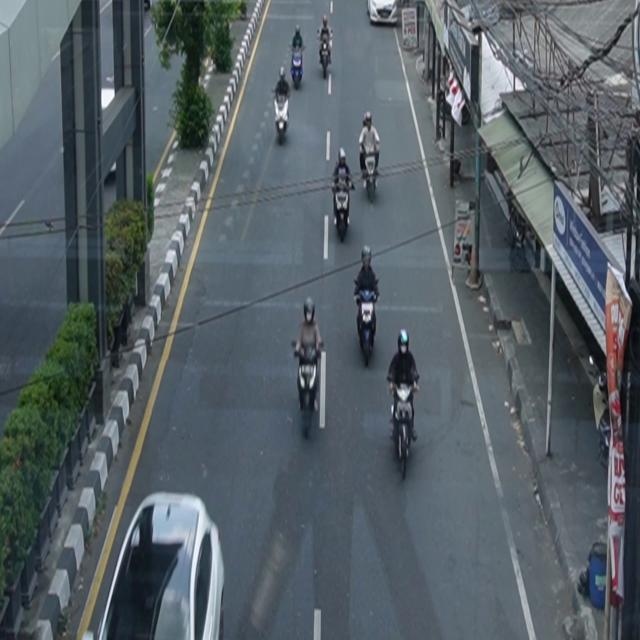car: (80, 492, 226, 640)
